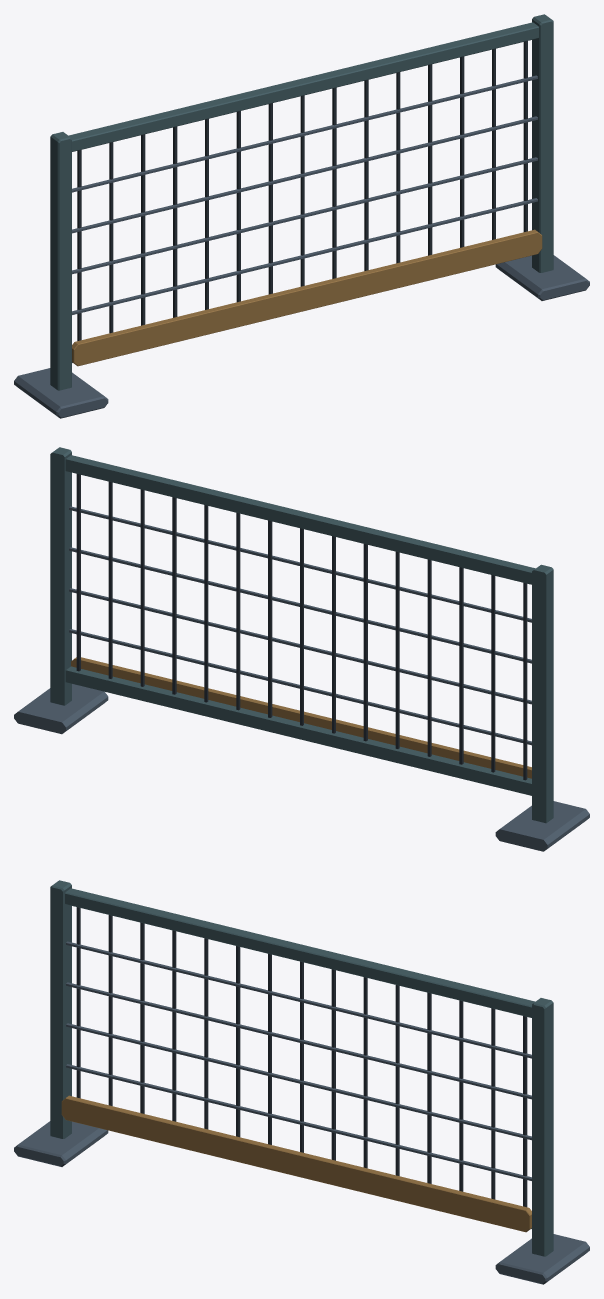
File: HM-06_mesh_barrier.glb
3 views of the same model, one above another, from view 1: azimuth 30°, elevation 25°; view 2: azimuth 150°, elevation 25°; view 3: azimuth 330°, elevation 25° (orthographic).
Parts seen in each view (by area): view 1: HM-06_mesh_barrier; view 2: HM-06_mesh_barrier; view 3: HM-06_mesh_barrier.
Boxes of the visible parts, x1=… form: HM-06_mesh_barrier: x1=14, y1=14, x2=589, y2=418; HM-06_mesh_barrier: x1=14, y1=447, x2=589, y2=851; HM-06_mesh_barrier: x1=14, y1=880, x2=589, y2=1284.
Size of the model in its own units: 3.28 by 1.54 by 0.46.
